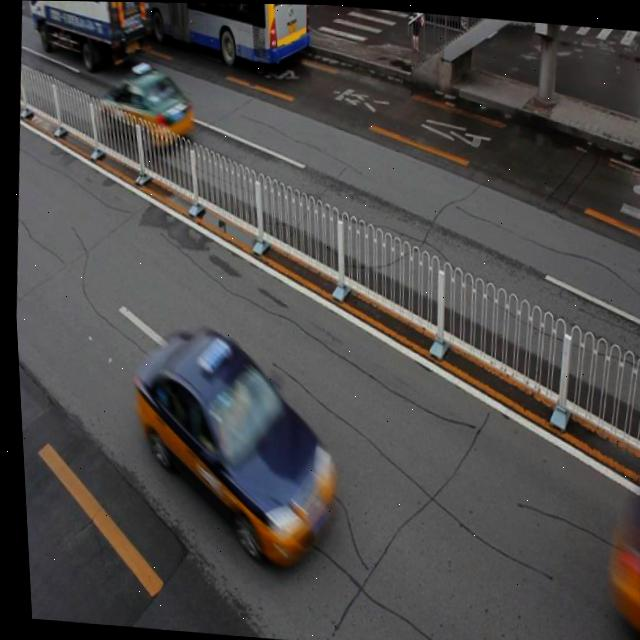bus: (21, 0, 151, 67)
car: (118, 320, 344, 560), (94, 64, 197, 156), (599, 465, 640, 640)
van: (83, 1, 311, 66)
